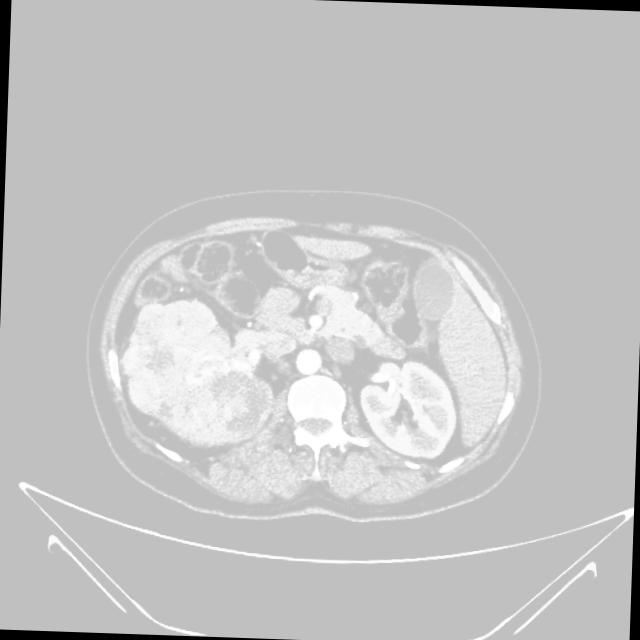TUMOR: (106, 280, 505, 436)
